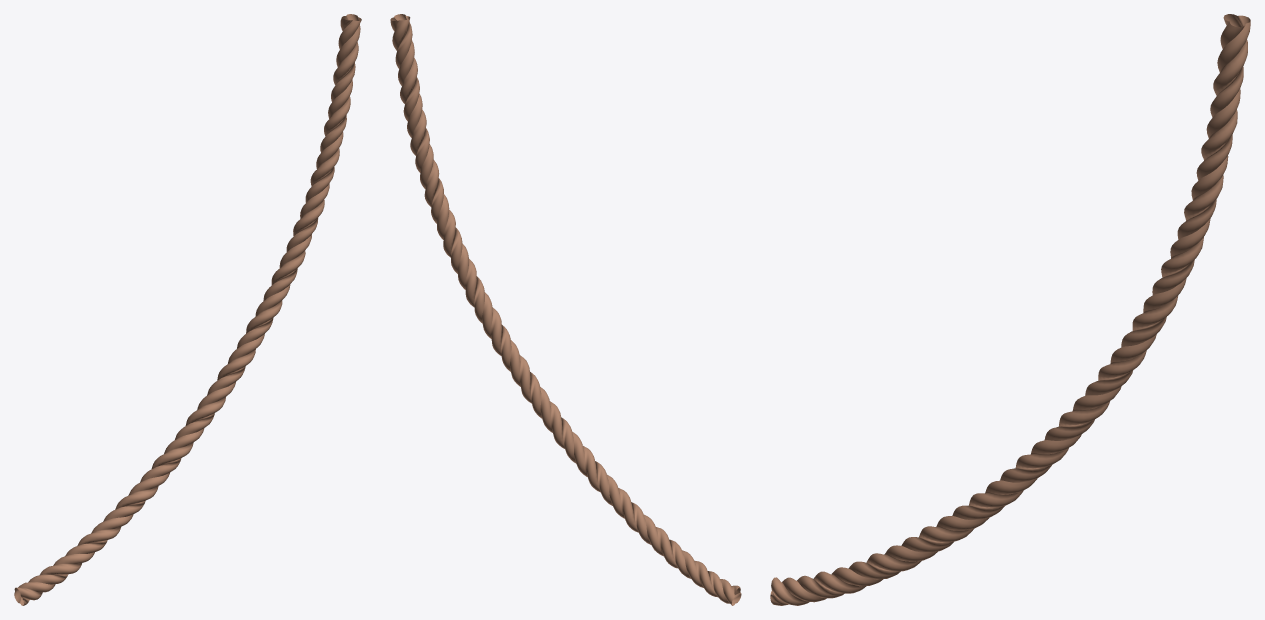
The model's file is rope.glb.
The picture shows the model from 3 angles, left to right: view 1: azimuth 30°, elevation 25°; view 2: azimuth 150°, elevation 25°; view 3: azimuth 330°, elevation 25°; orthographic projection. The views are drawn at different scales.
Visible parts, largest first — view 1: Circle.002; view 2: Circle.002; view 3: Circle.002.
Part boxes in pixels (x1=…): Circle.002: x1=14, y1=14, x2=361, y2=605; Circle.002: x1=390, y1=14, x2=741, y2=605; Circle.002: x1=770, y1=14, x2=1250, y2=605.
Size of the model in its own units: 2.98 by 4.19 by 0.1822.
